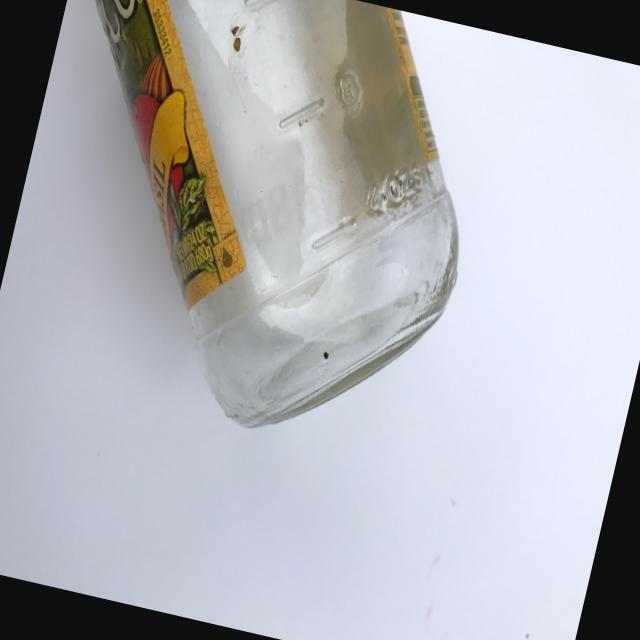Glass: (0, 0, 533, 487)
